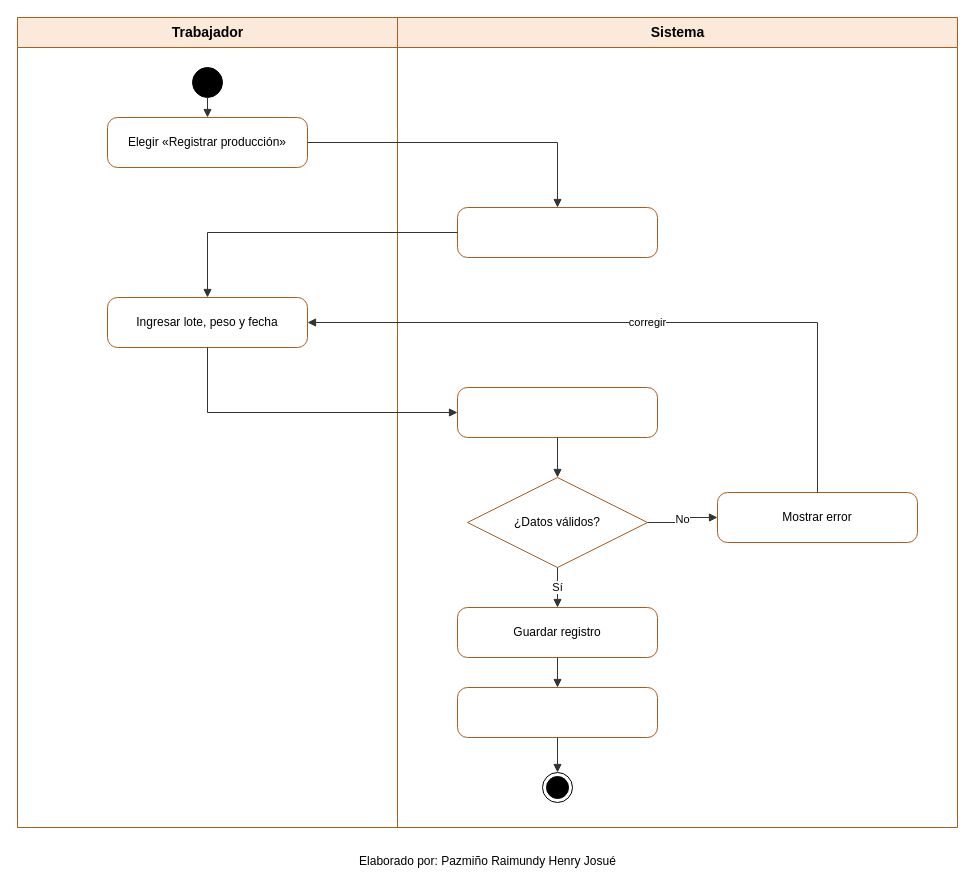
Image size: 975x891. Some labels were removed from this diagram. The centre of each missing label's shape, as x and y in pixels:
"Mostrar formulario" goes at point (557, 232).
"Mostrar «Producción registrada»" goes at point (557, 712).
"Validar datos" goes at point (557, 412).
